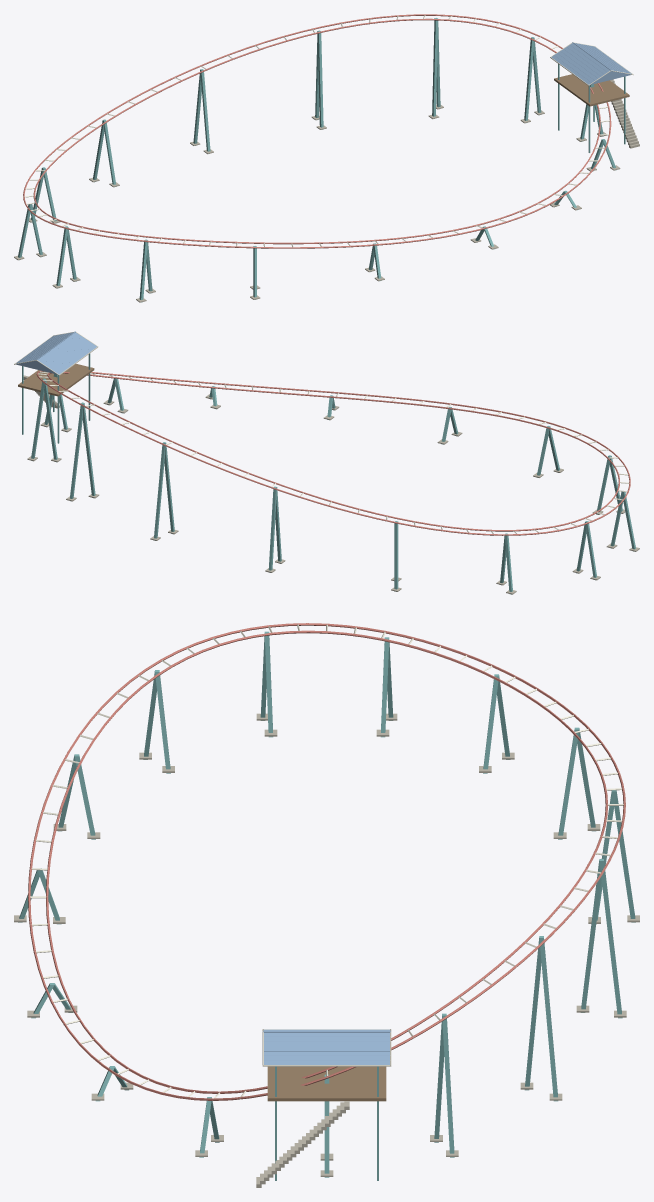
The picture shows the model from 3 angles, top to bottom: view 1: azimuth 30°, elevation 25°; view 2: azimuth 150°, elevation 25°; view 3: azimuth 270°, elevation 25°; orthographic projection. The views are drawn at different scales.
Bounding box in the file's own units: 132 × 21.11 × 73.7.
